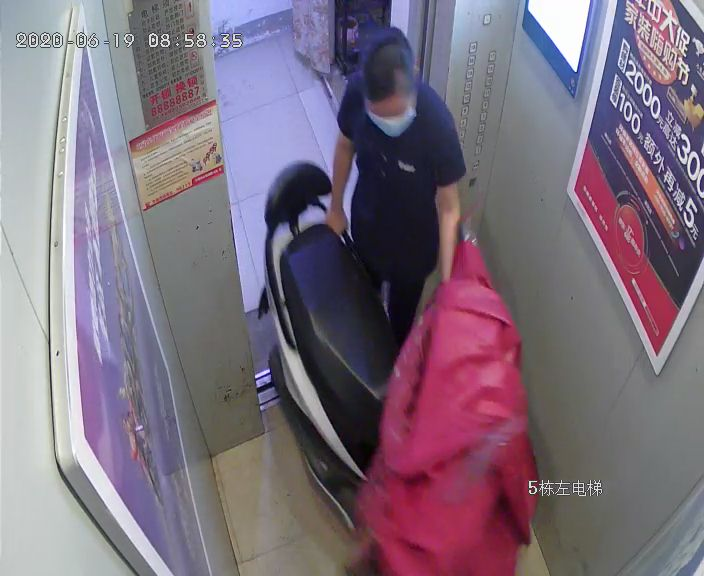Electric-bicycle: (263, 160, 527, 551)
